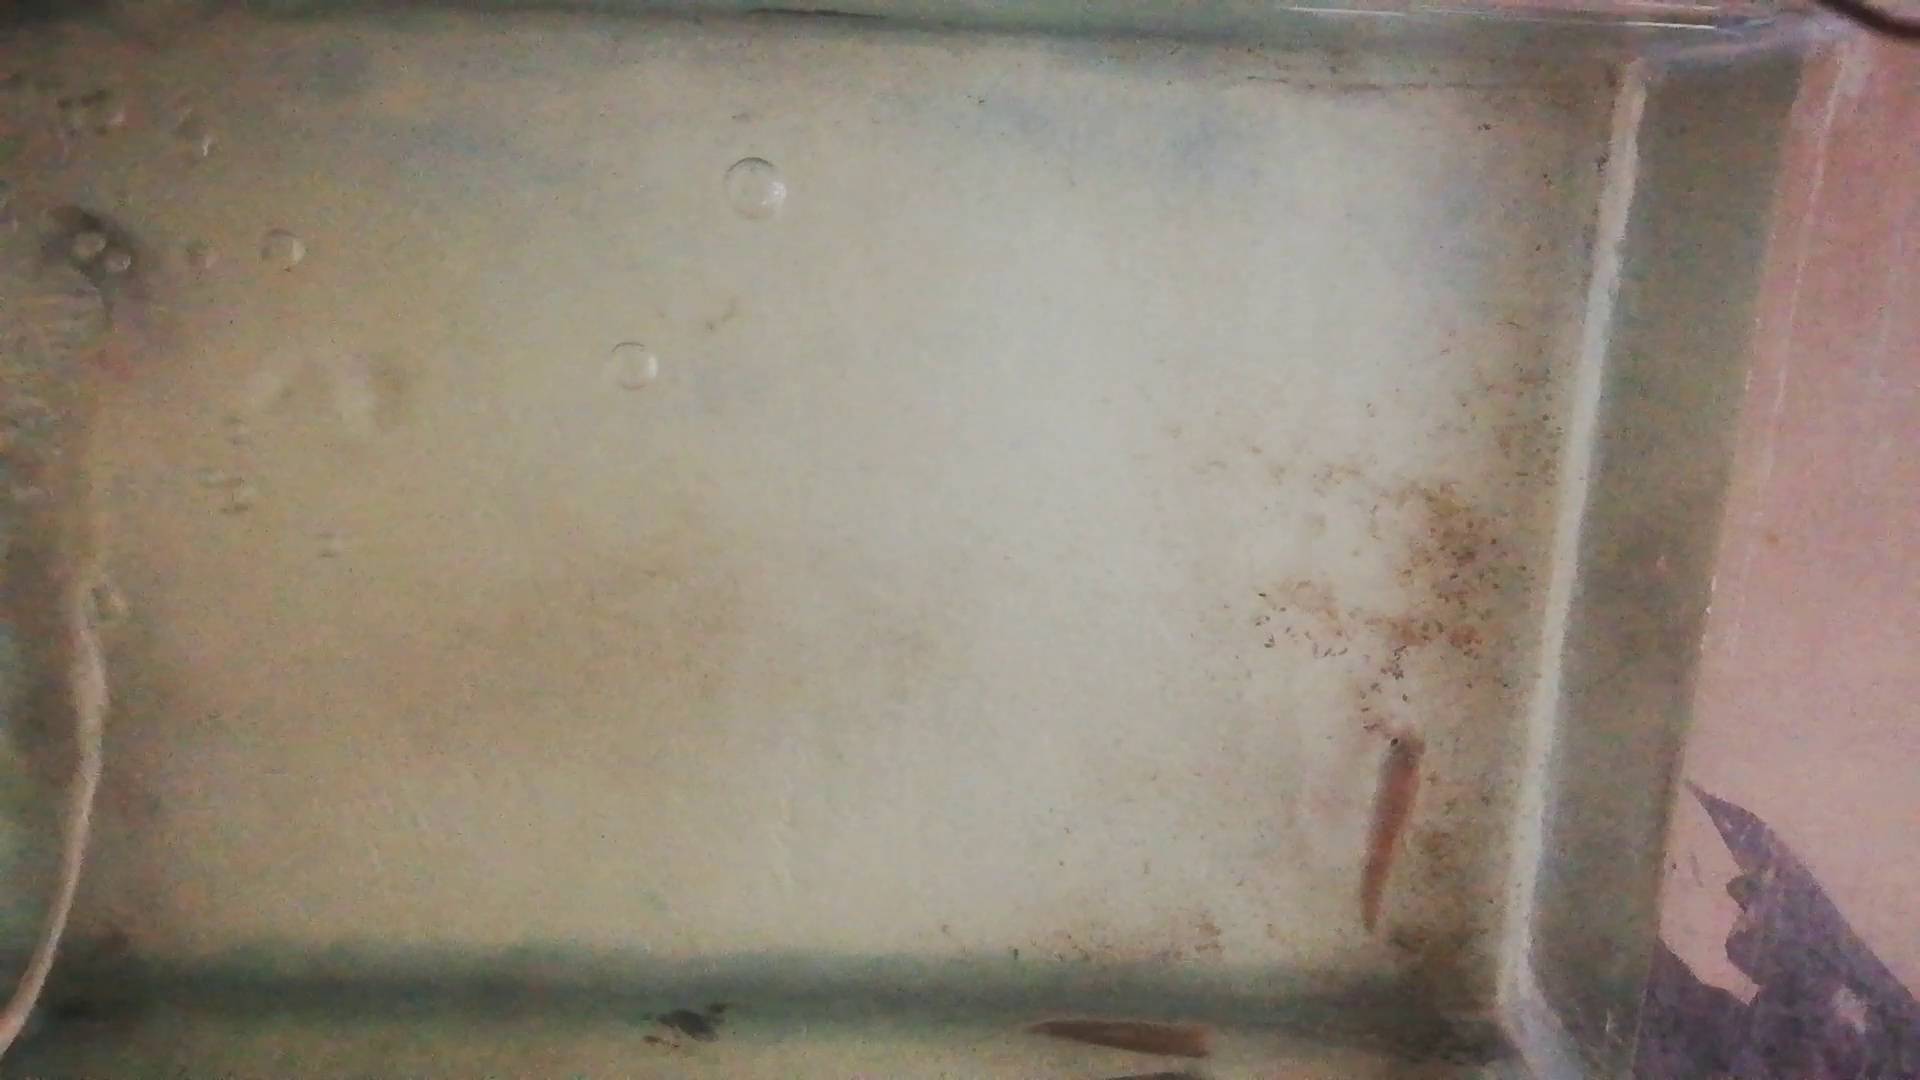fish: (1358, 727, 1427, 934), (1029, 1018, 1216, 1060)
